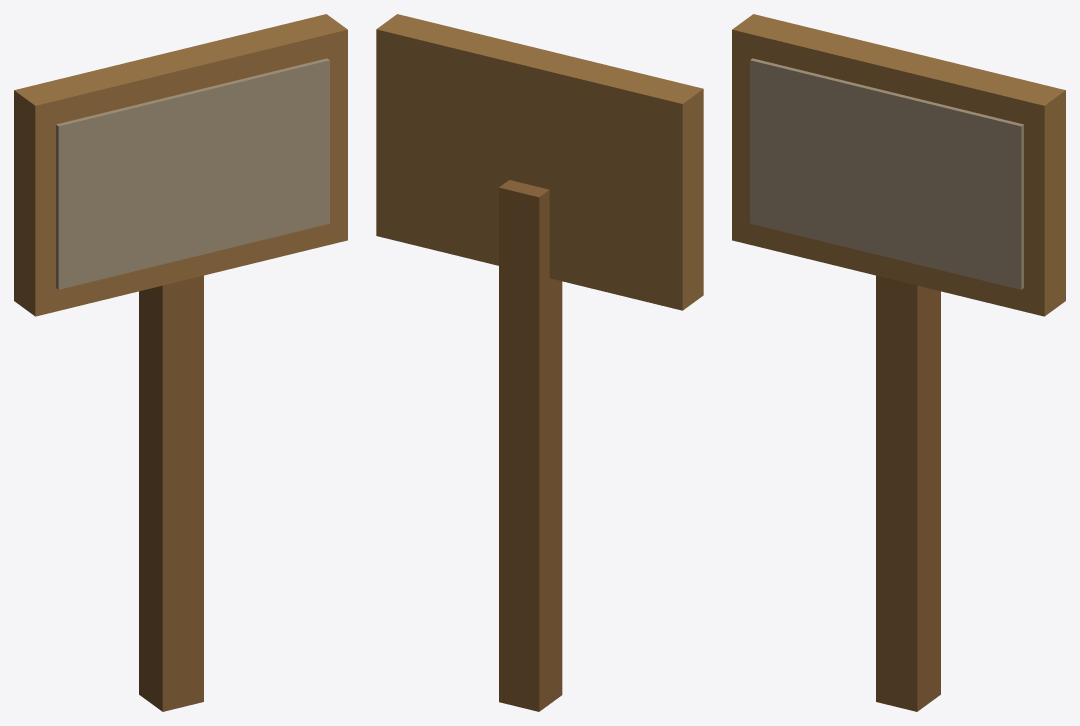
Rendered from alc_sign.glb.
The picture shows the model from 3 angles, left to right: view 1: azimuth 30°, elevation 25°; view 2: azimuth 150°, elevation 25°; view 3: azimuth 330°, elevation 25°; orthographic projection.
Parts seen in each view (by area): view 1: alc_sign; view 2: alc_sign; view 3: alc_sign.
Boxes of the visible parts, <box> form: alc_sign: <box>14,14,347,711</box>; alc_sign: <box>376,14,703,711</box>; alc_sign: <box>732,14,1065,711</box>.
Size of the model in its own units: 0.76 by 1.5 by 0.146.
